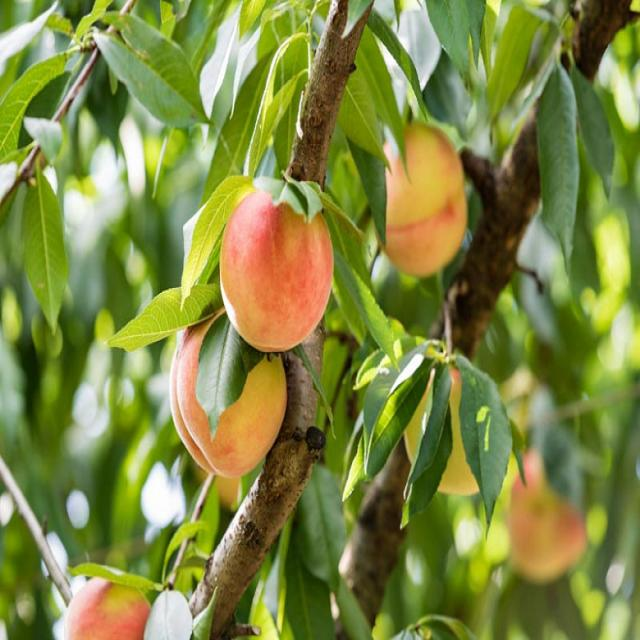peach: (108, 0, 387, 480)
